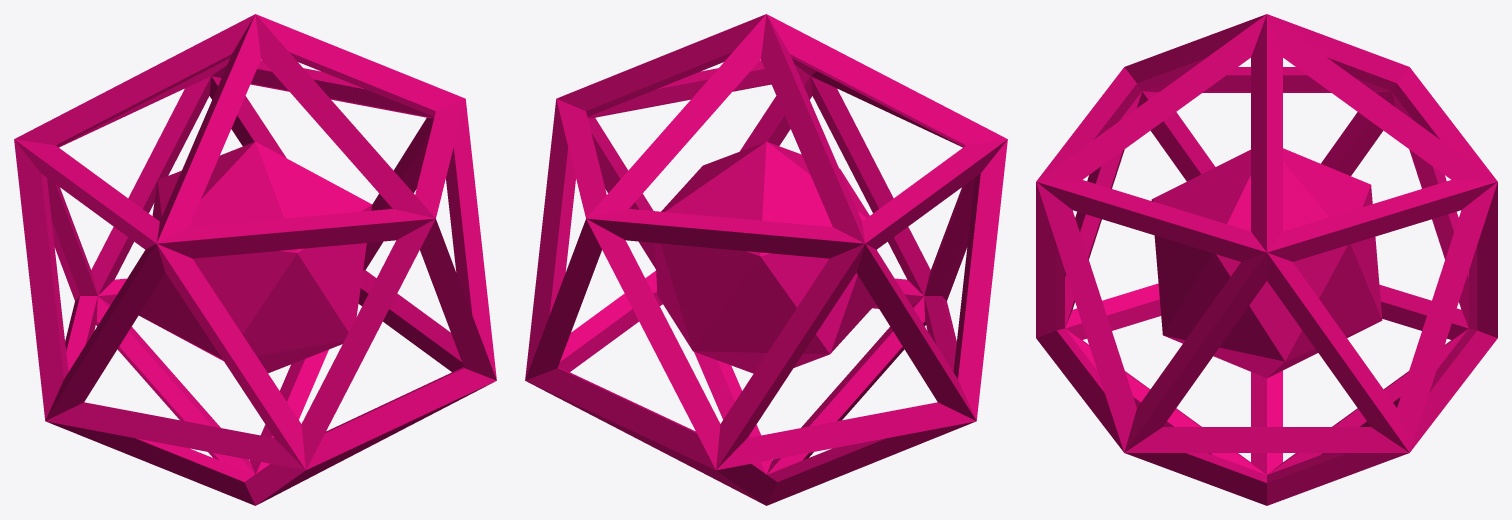
File: EnemyBasic.fbx
3 views of the same model, side by side, from view 1: azimuth 30°, elevation 25°; view 2: azimuth 150°, elevation 25°; view 3: azimuth 270°, elevation 25° (orthographic).
Visible parts, largest first — view 1: EnemyBasic; view 2: EnemyBasic; view 3: EnemyBasic.
Part boxes in pixels (bbox=[...]): EnemyBasic: bbox=[14, 14, 496, 505]; EnemyBasic: bbox=[525, 14, 1007, 505]; EnemyBasic: bbox=[1036, 14, 1497, 505].
Size of the model in its own units: 35.57 by 39.77 by 33.83.
